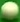white: (0, 0, 20, 22)
